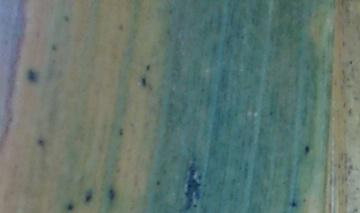tarspot: (25, 66, 39, 85), (83, 189, 95, 203), (287, 197, 299, 209), (107, 187, 116, 201), (118, 126, 126, 137), (66, 203, 75, 212), (116, 22, 125, 31), (36, 137, 44, 147), (164, 26, 172, 36), (139, 76, 146, 87), (62, 14, 70, 23), (267, 109, 275, 118), (303, 144, 310, 154), (50, 41, 57, 51), (154, 179, 162, 187), (144, 63, 151, 71), (167, 7, 174, 15)
